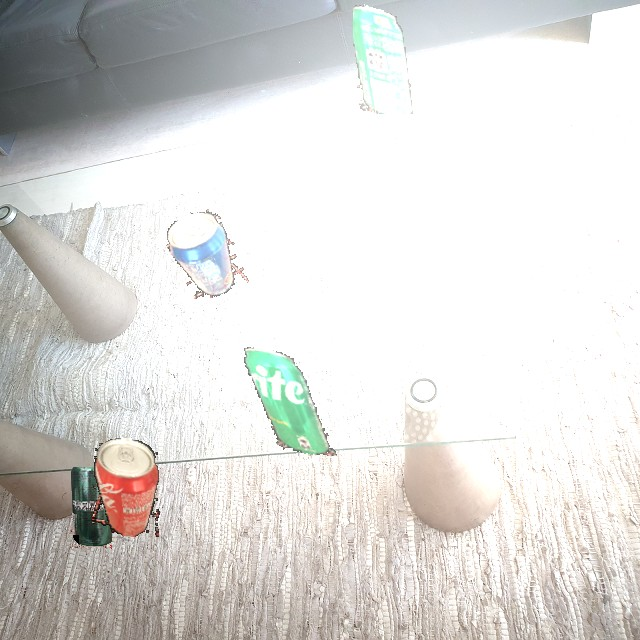coca cola: (92, 435, 160, 538)
pepsi: (156, 200, 256, 310)
schweppes: (70, 467, 112, 549)
sprite: (243, 333, 337, 456), (353, 1, 413, 114)
